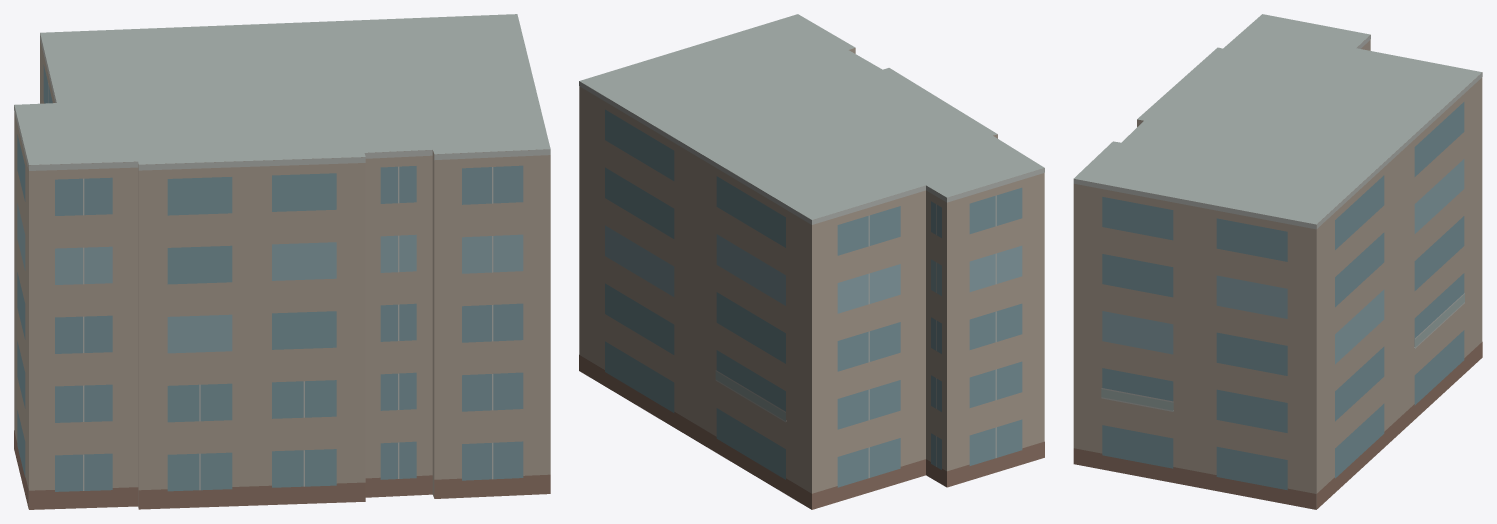
File: survey-upis-32749314.glb
3 renders of one model, left to right at view 1: azimuth 30°, elevation 25°; view 2: azimuth 150°, elevation 25°; view 3: azimuth 270°, elevation 25°, orthographic. The views are drawn at different scales.
Parts seen in each view (by area): view 1: survey-upis-32749314.tmp; view 2: survey-upis-32749314.tmp; view 3: survey-upis-32749314.tmp.
Boxes of the visible parts, x1,y1,x2,y2 form: survey-upis-32749314.tmp: [14, 14, 550, 509]; survey-upis-32749314.tmp: [579, 14, 1044, 509]; survey-upis-32749314.tmp: [1073, 14, 1482, 509].
Bounding box in the file's own units: 22.47 × 14.2 × 18.45.
